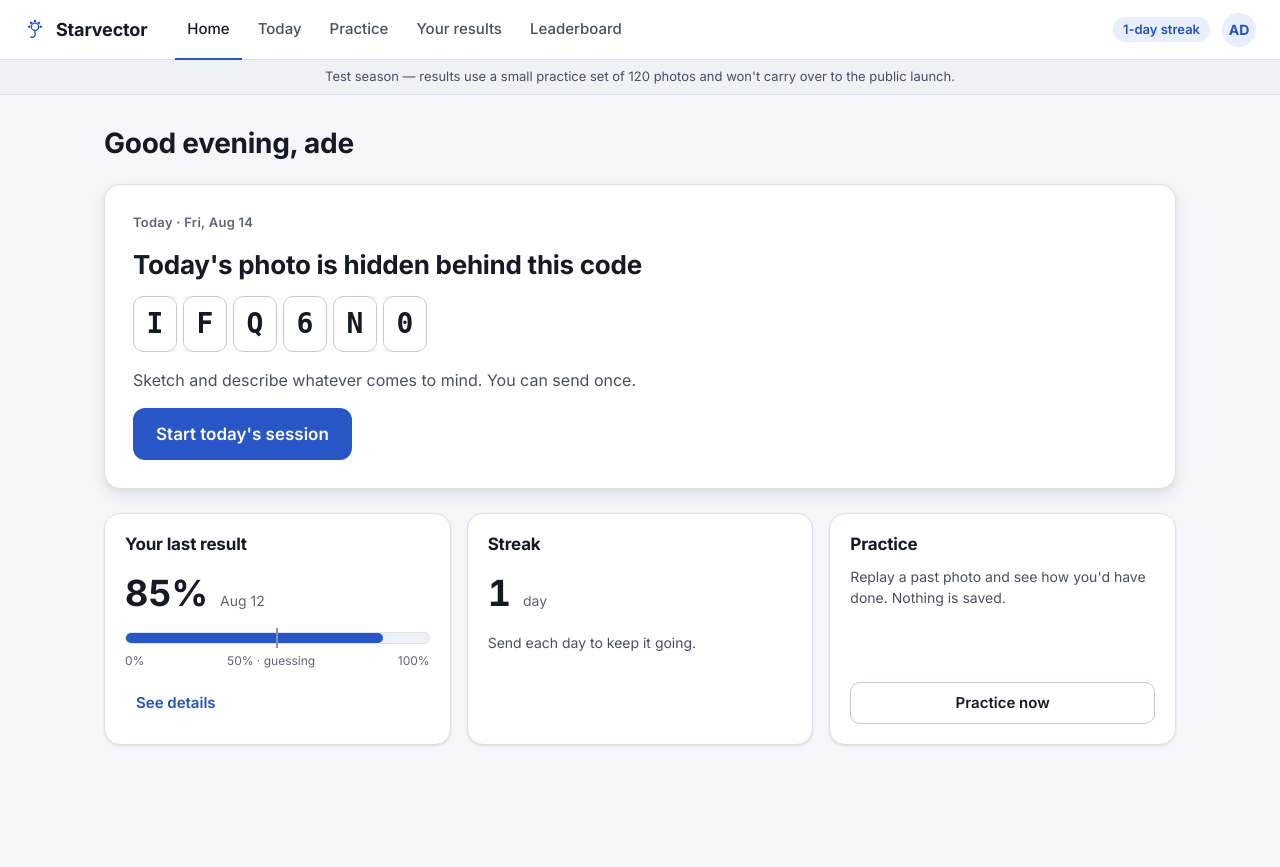
Test: the Account screen (spec A1 §3, spec BR1 §4) › is reached from the avatar in the top bar
What coordinates should you click on to do the following:
click the link with aria-label "Your account"
I would click on:
 (1239, 30)
Its box is [1222,12,1256,46].
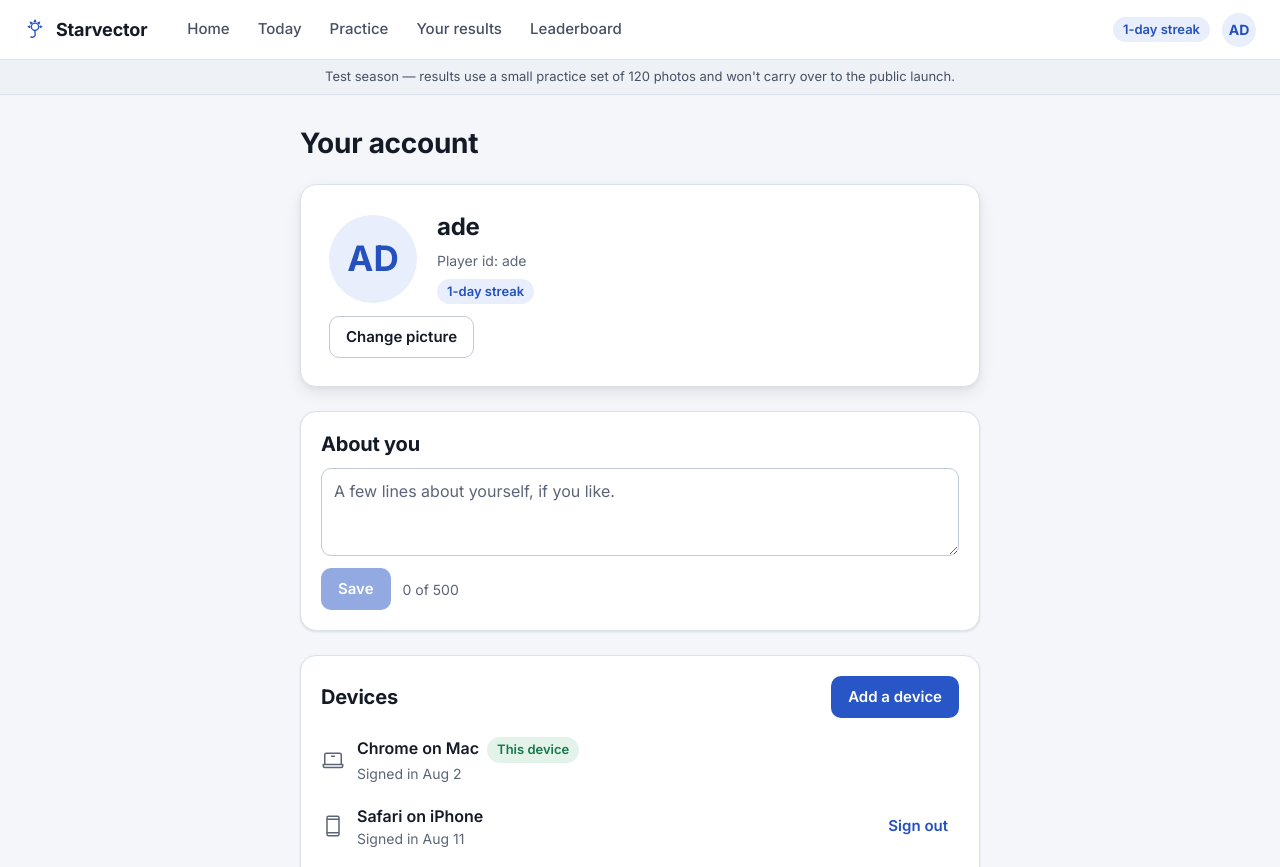
Check: the heading "About you" is shown, box [321,432,420,456]
Check: the heading "Your account" is shown, box [300,126,478,160]
